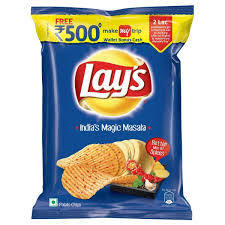lays-med: (29, 5, 199, 221)
